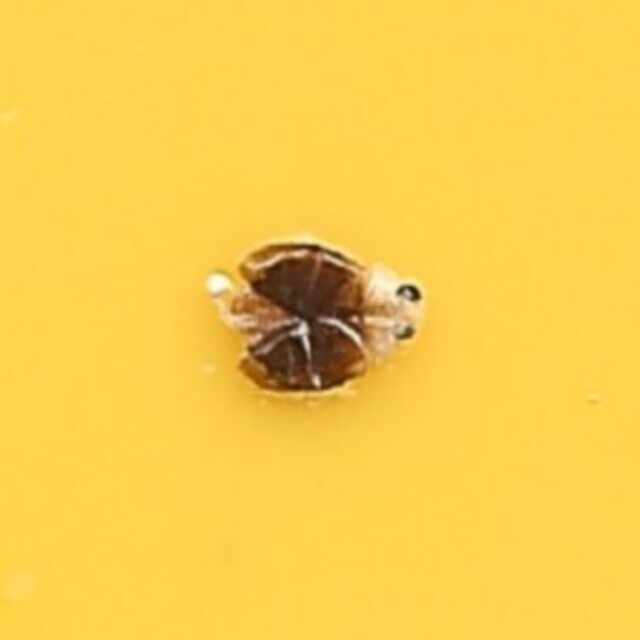Coleoptera: (211, 242, 429, 398)
